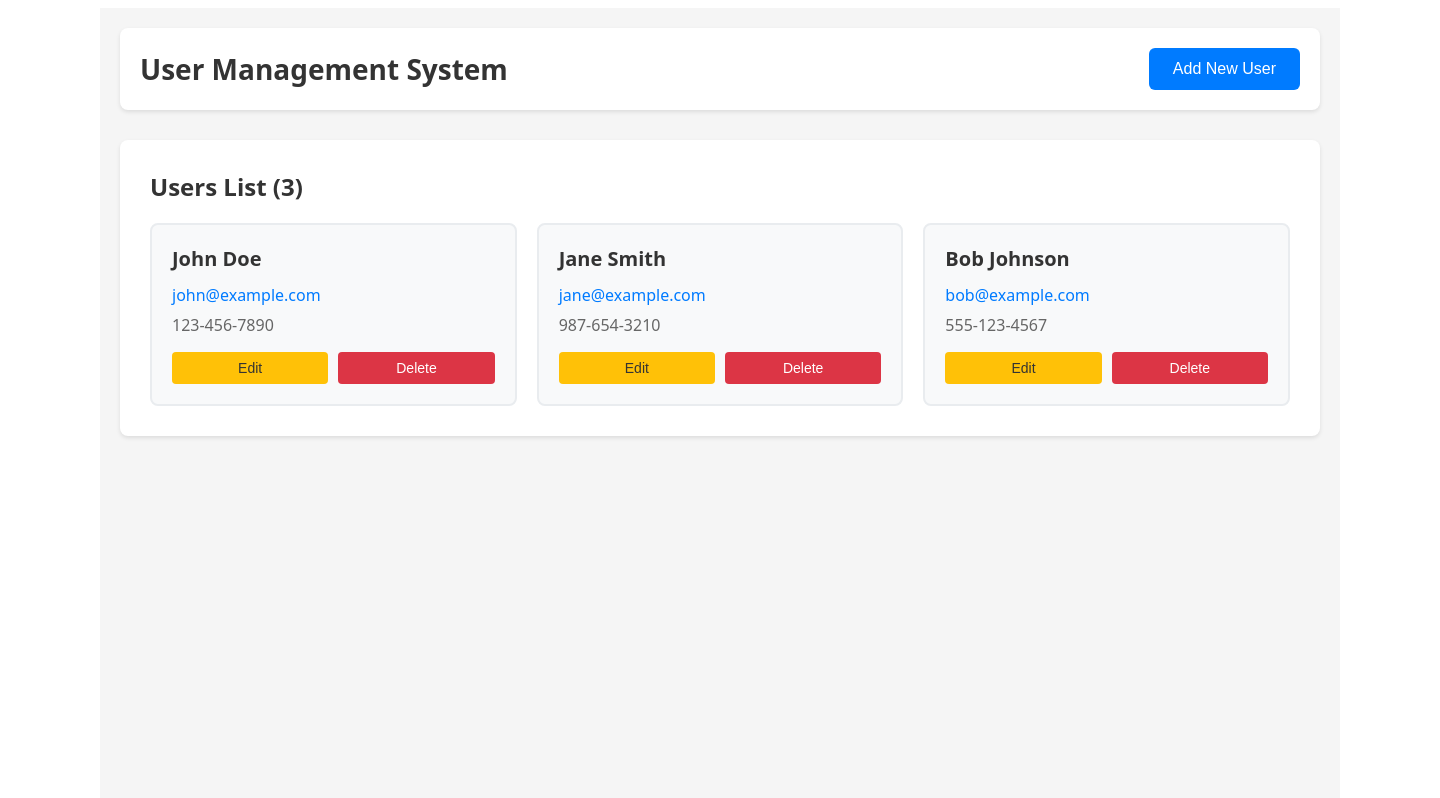
Scenario: Home Component › adds a new user
Click the button "Add New User".
click(1224, 69)  # box [1149,48,1300,90]
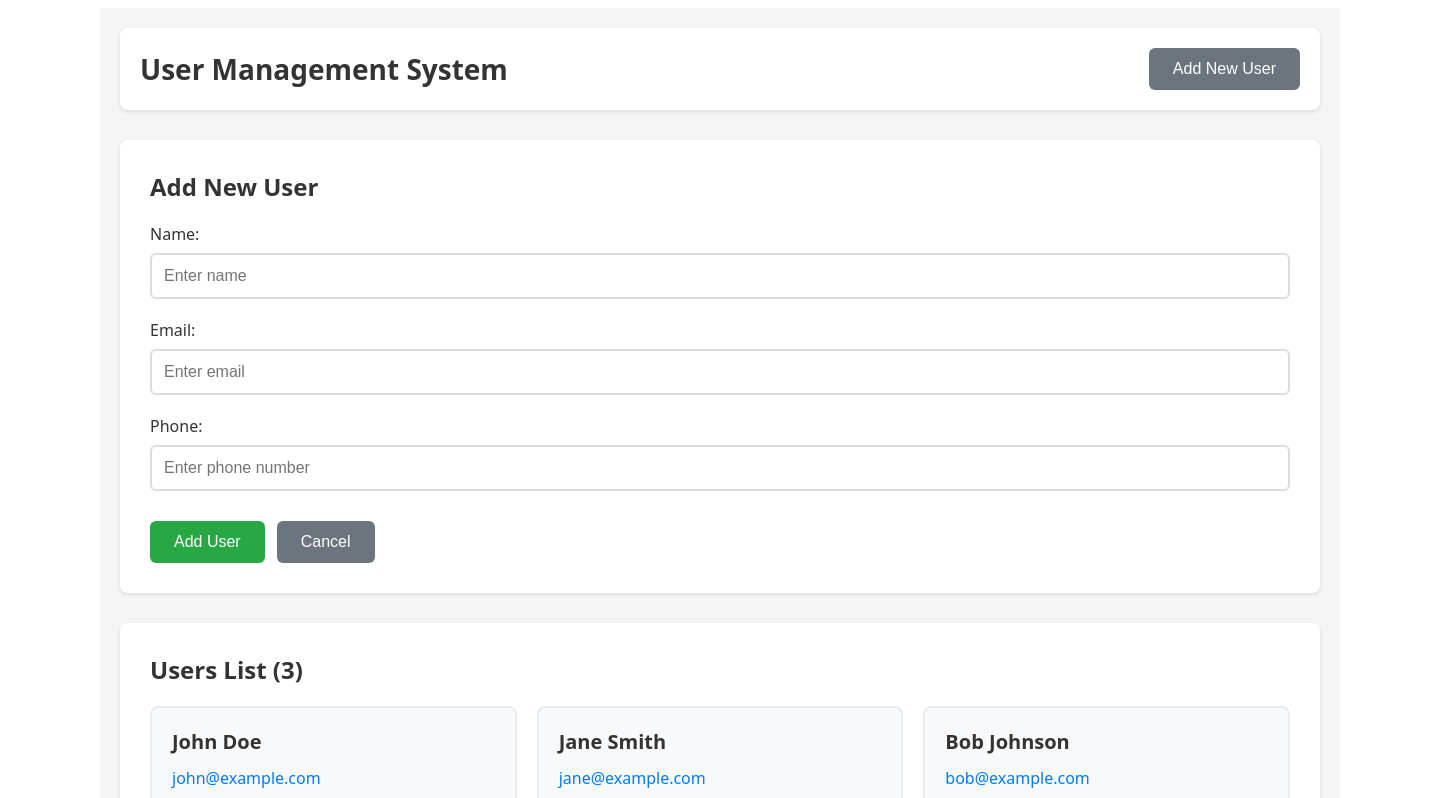
Type "Alice" into the field labelled "Name:".
click(720, 276); type("Alice")  # box [150,253,1290,299]
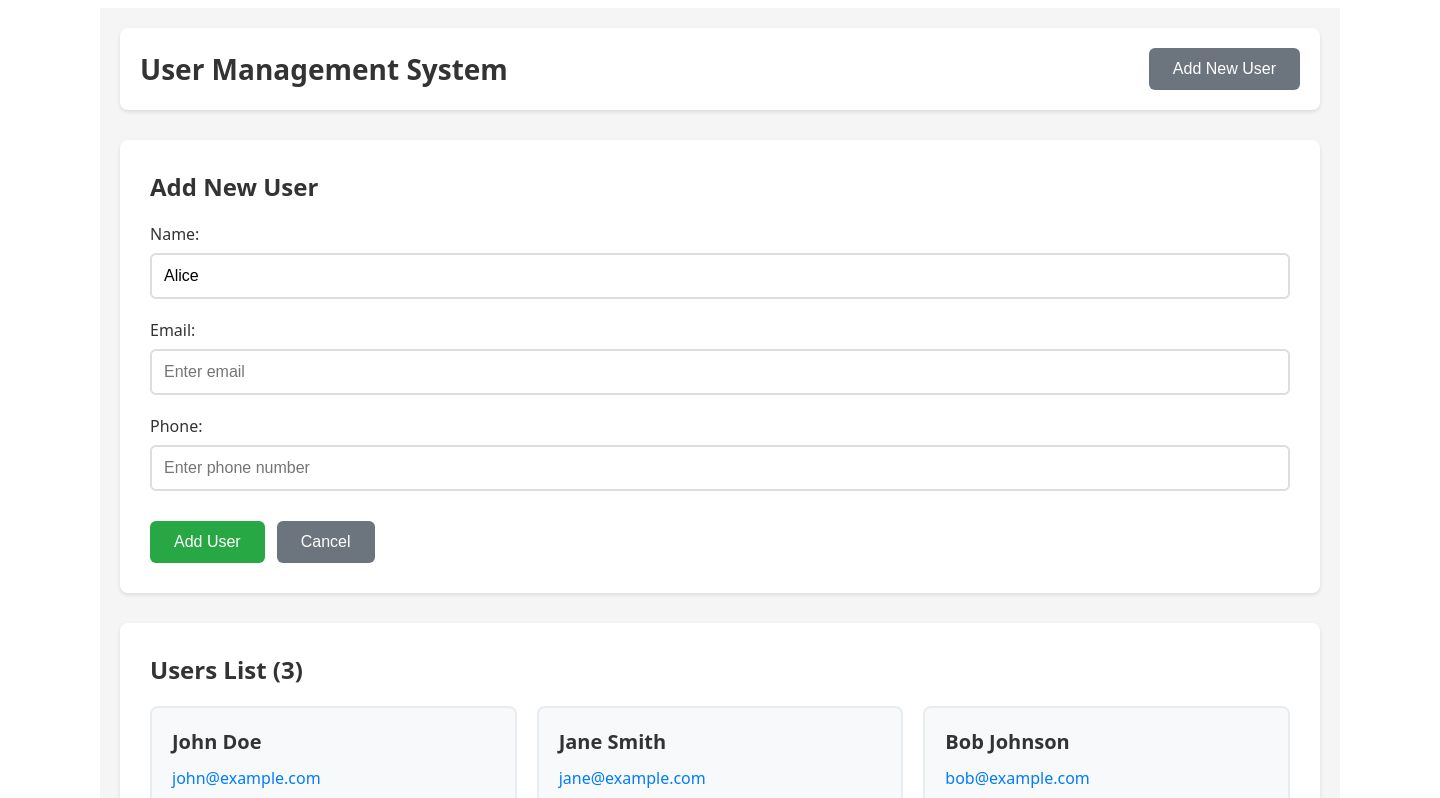
Type "alice@example.com" into the field labelled "Email:".
click(720, 372); type("alice@example.com")  # box [150,349,1290,395]
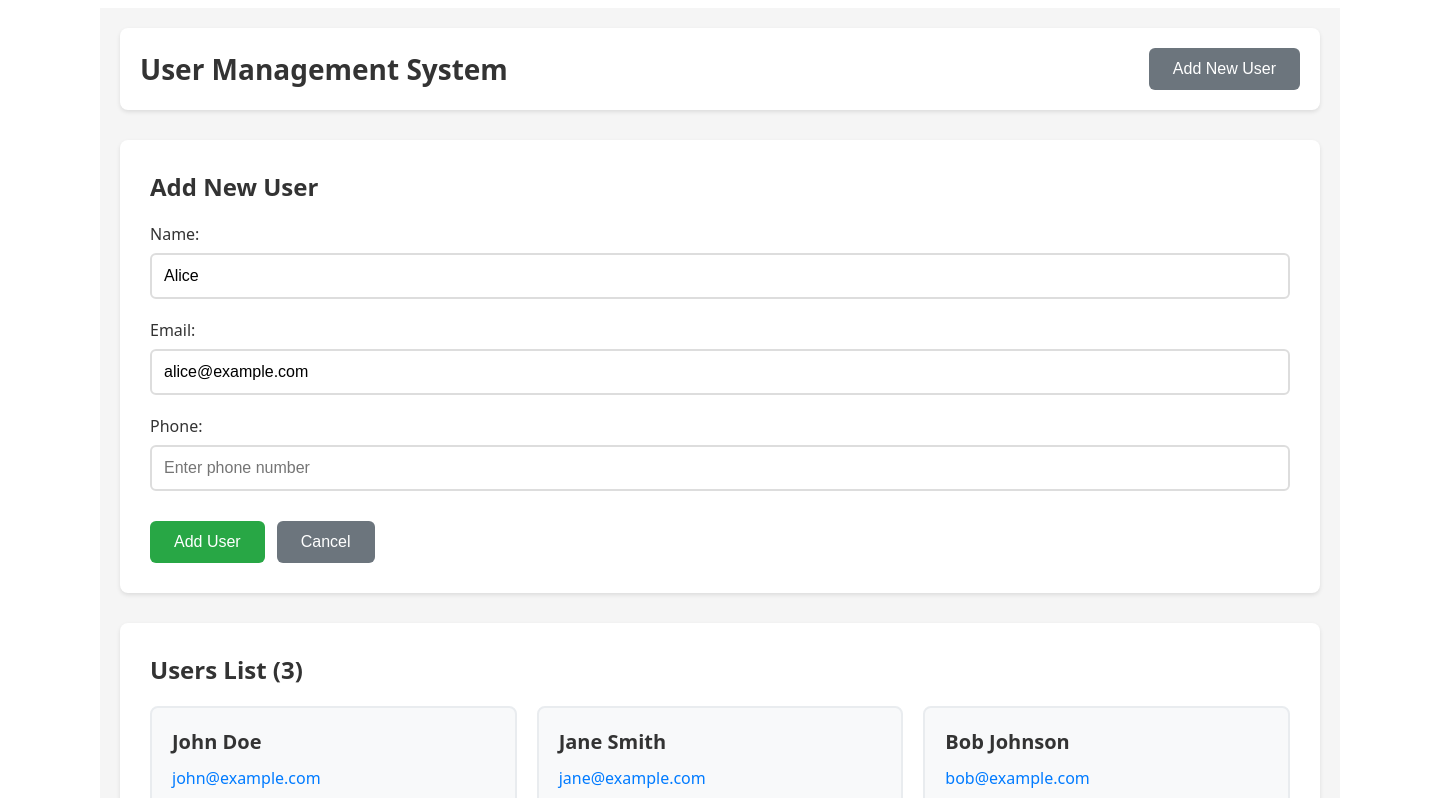
Type "111-222-3333" into the field labelled "Phone:".
click(720, 468); type("111-222-3333")  # box [150,445,1290,491]
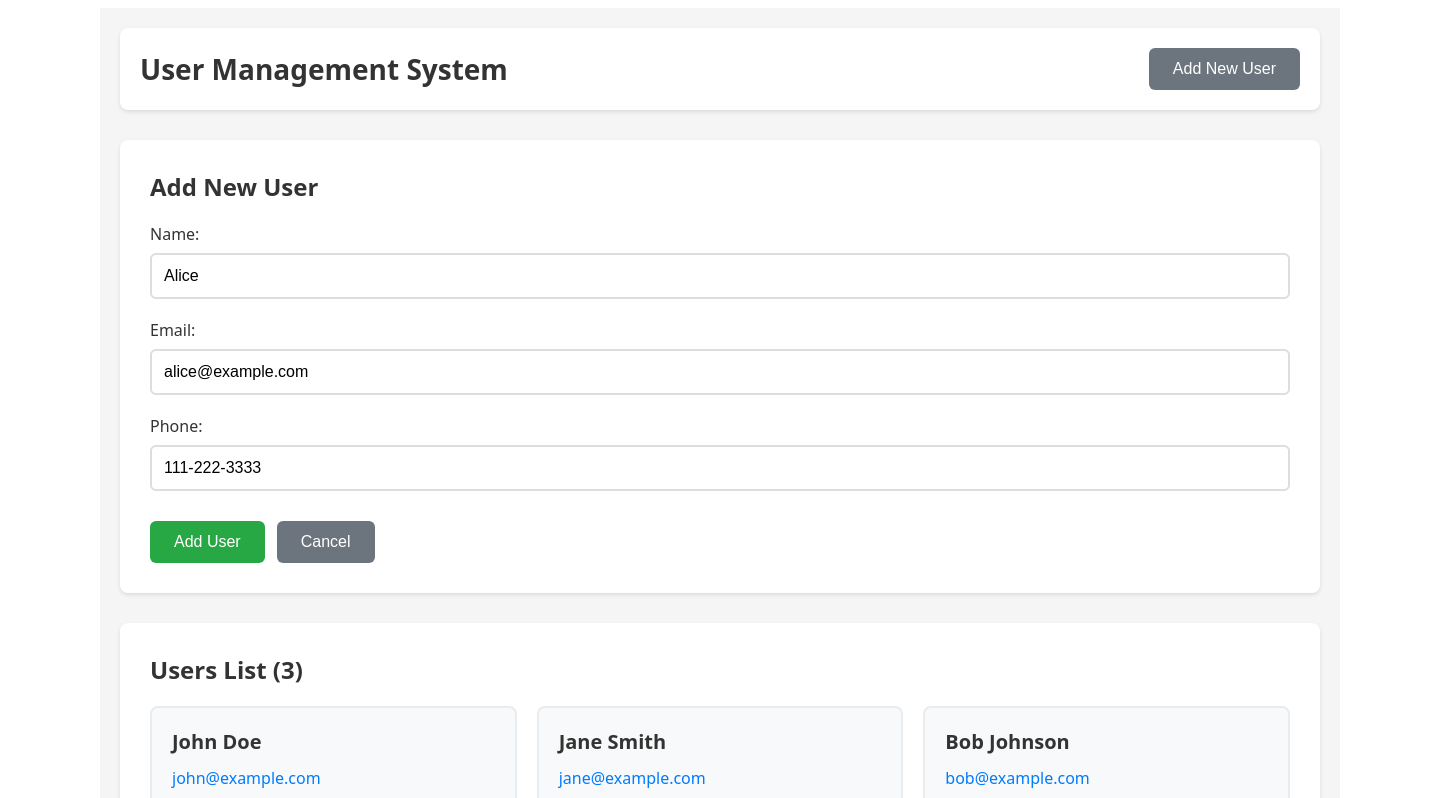
Click the button "Add User".
click(207, 542)  # box [150,521,265,563]
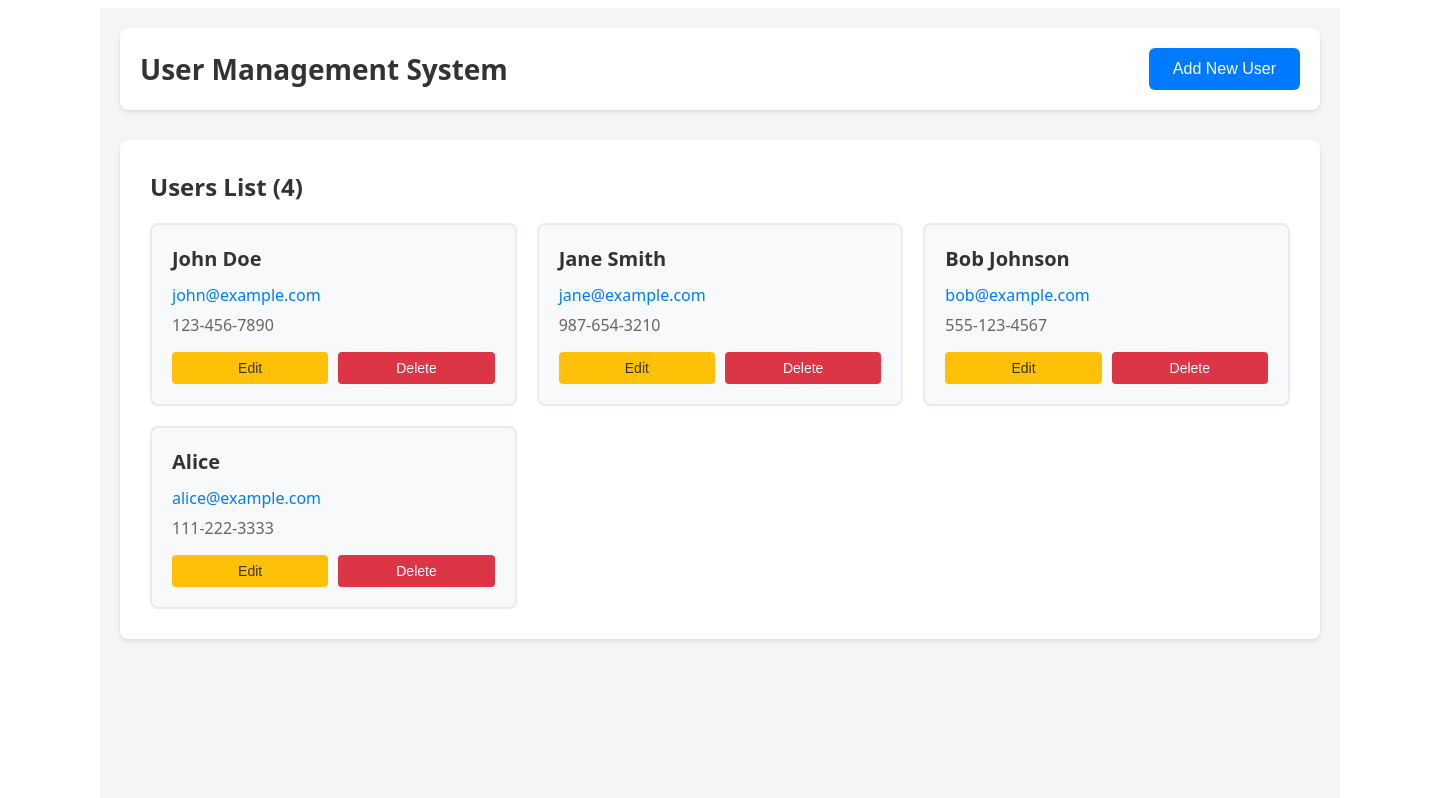
Expected: the heading "Alice" is shown, [172,448,220,475]
